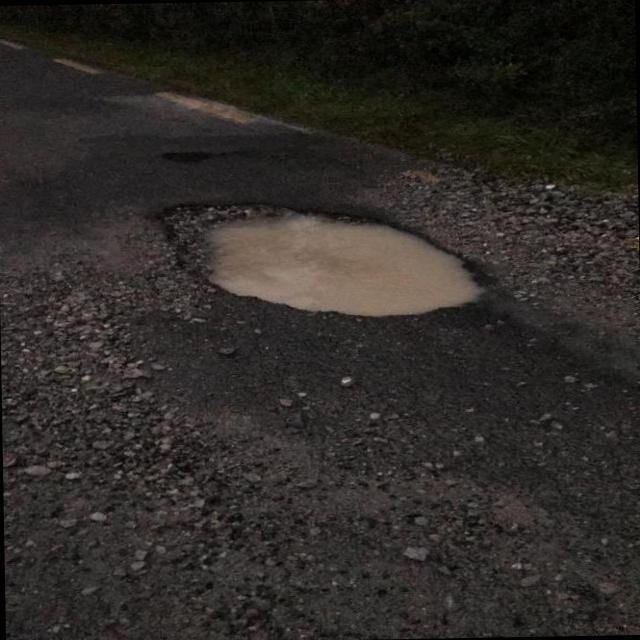Pothole: (153, 203, 482, 315)
